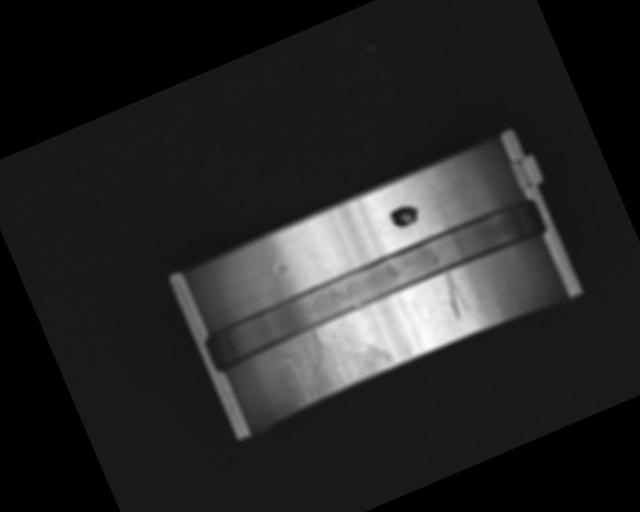blot: (387, 201, 423, 232)
bruise: (270, 257, 292, 283)
gap: (201, 194, 549, 373)
nick: (435, 266, 472, 321)
scratch: (264, 302, 397, 413)
